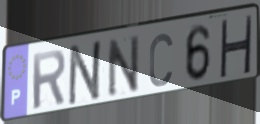6: (183, 22, 214, 84)
C: (147, 31, 174, 90)
H: (217, 15, 254, 79)
N: (66, 37, 106, 108), (106, 32, 141, 100)
R: (30, 48, 68, 112)
